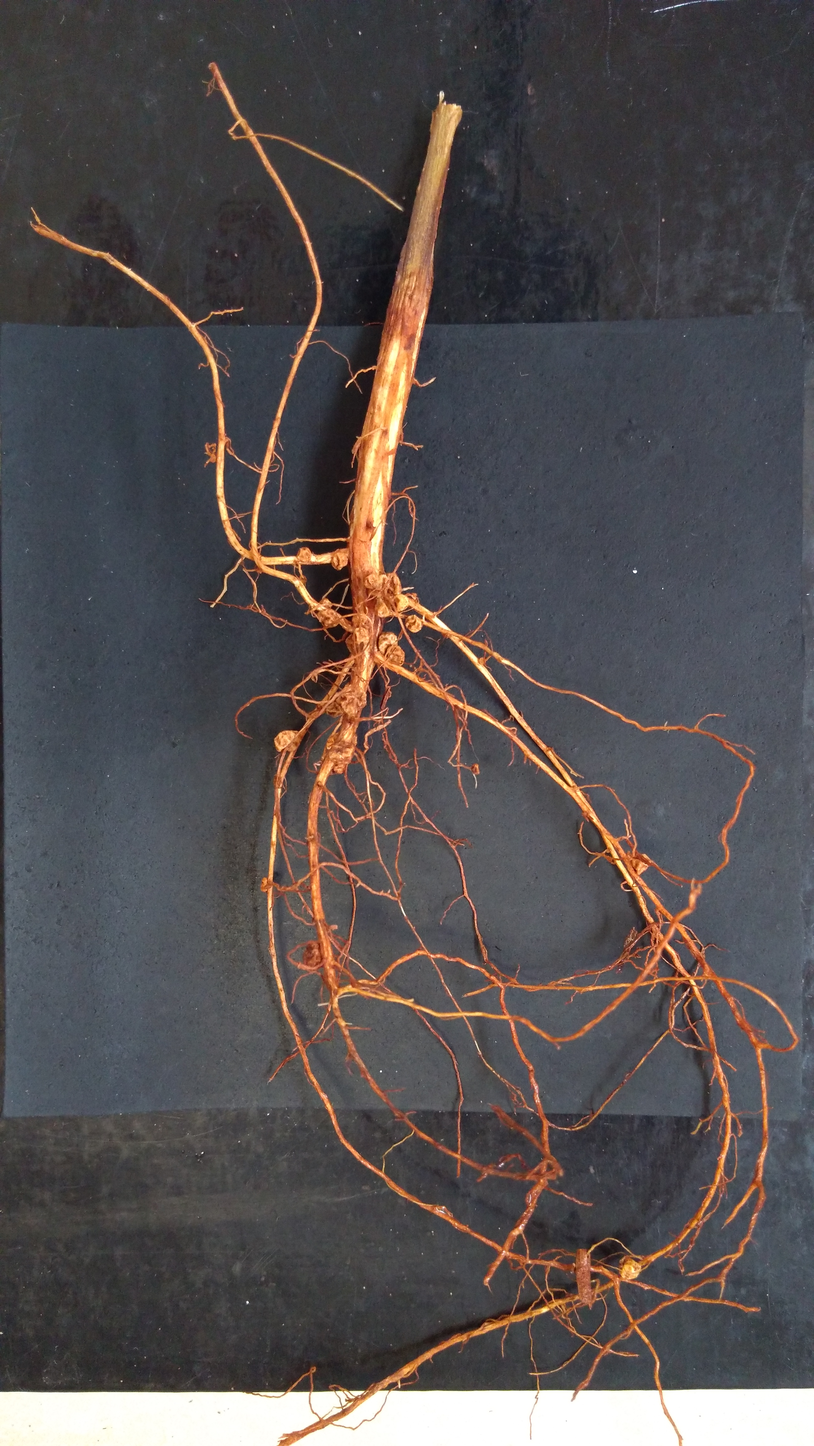nodule: (335, 689, 368, 717), (301, 939, 324, 970), (619, 1254, 645, 1281), (327, 740, 355, 764), (272, 729, 298, 754), (377, 627, 399, 656), (630, 853, 654, 879), (384, 573, 404, 602), (315, 608, 341, 629), (324, 732, 356, 748), (385, 644, 406, 668), (370, 573, 390, 598), (402, 613, 424, 634), (392, 593, 411, 615), (330, 552, 349, 572), (324, 700, 344, 719), (373, 598, 390, 617), (351, 626, 370, 643), (295, 546, 313, 563), (364, 573, 379, 591), (331, 761, 347, 775), (258, 875, 270, 893), (318, 598, 334, 610)
